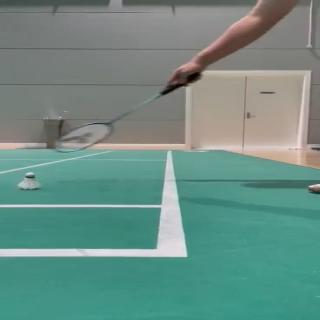Shuttle: (16, 172, 42, 190)
